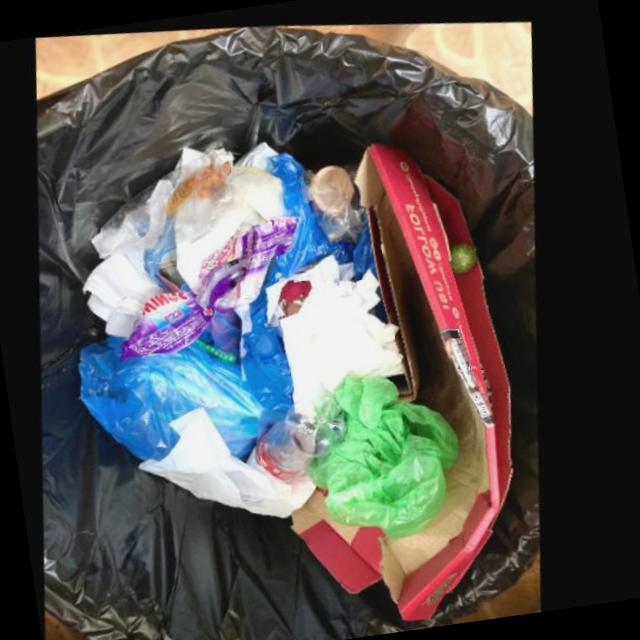bao_bi_thuc_pham: (95, 142, 246, 254)
carton: (296, 132, 519, 609)
chai_nhua_pet: (262, 389, 353, 471)
giay: (145, 401, 324, 510), (284, 246, 410, 396)
goi_nhua_nho: (125, 209, 300, 357)
tui_ni_long: (84, 144, 383, 455), (313, 366, 466, 529)
vo_trai_cay: (452, 232, 480, 263)
vo_trung: (282, 273, 315, 302)
